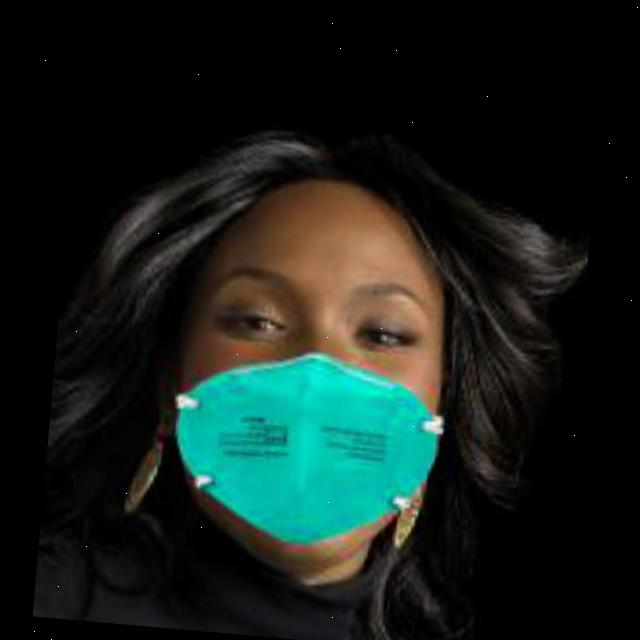suspicion: (135, 110, 537, 597)
